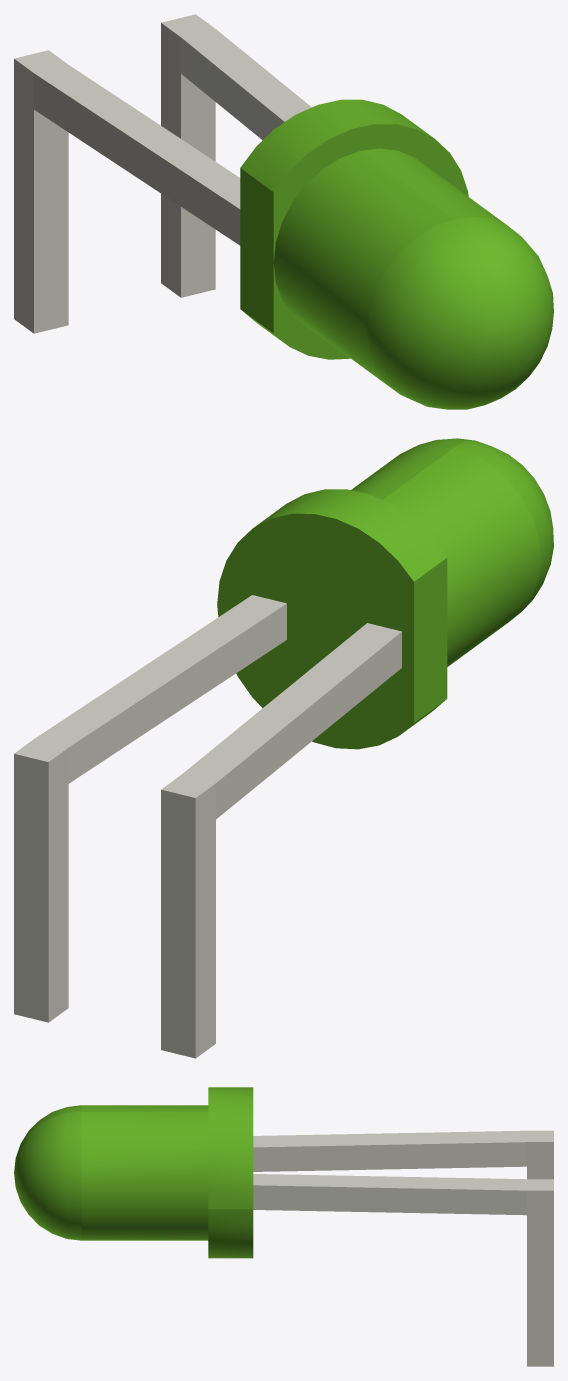
File: kc-led_d3.0mm_horizontal_o6.35mm_z2.0mm.glb
The picture shows the model from 3 angles, top to bottom: view 1: azimuth 30°, elevation 25°; view 2: azimuth 150°, elevation 25°; view 3: azimuth 270°, elevation 25°; orthographic projection. The views are drawn at different scales.
Parts seen in each view (by area): view 1: 0.16666666666666666_0.4166666666666667_0_0, 0.6666666666666666_0.6666666666666666_0.5833333333333334_0.8; view 2: 0.16666666666666666_0.4166666666666667_0_0, 0.6666666666666666_0.6666666666666666_0.5833333333333334_0.8; view 3: 0.16666666666666666_0.4166666666666667_0_0, 0.6666666666666666_0.6666666666666666_0.5833333333333334_0.8.
Part boxes in pixels (left/top/right/bottom): 0.16666666666666666_0.4166666666666667_0_0: left=240, top=99, right=553, bottom=409; 0.6666666666666666_0.6666666666666666_0.5833333333333334_0.8: left=14, top=14, right=311, bottom=333; 0.16666666666666666_0.4166666666666667_0_0: left=217, top=438, right=553, bottom=749; 0.6666666666666666_0.6666666666666666_0.5833333333333334_0.8: left=14, top=595, right=401, bottom=1058; 0.16666666666666666_0.4166666666666667_0_0: left=14, top=1087, right=253, bottom=1258; 0.6666666666666666_0.6666666666666666_0.5833333333333334_0.8: left=253, top=1130, right=553, bottom=1366.
Bounding box in the file's own units: 0.347 × 0.5893 × 1.2.
